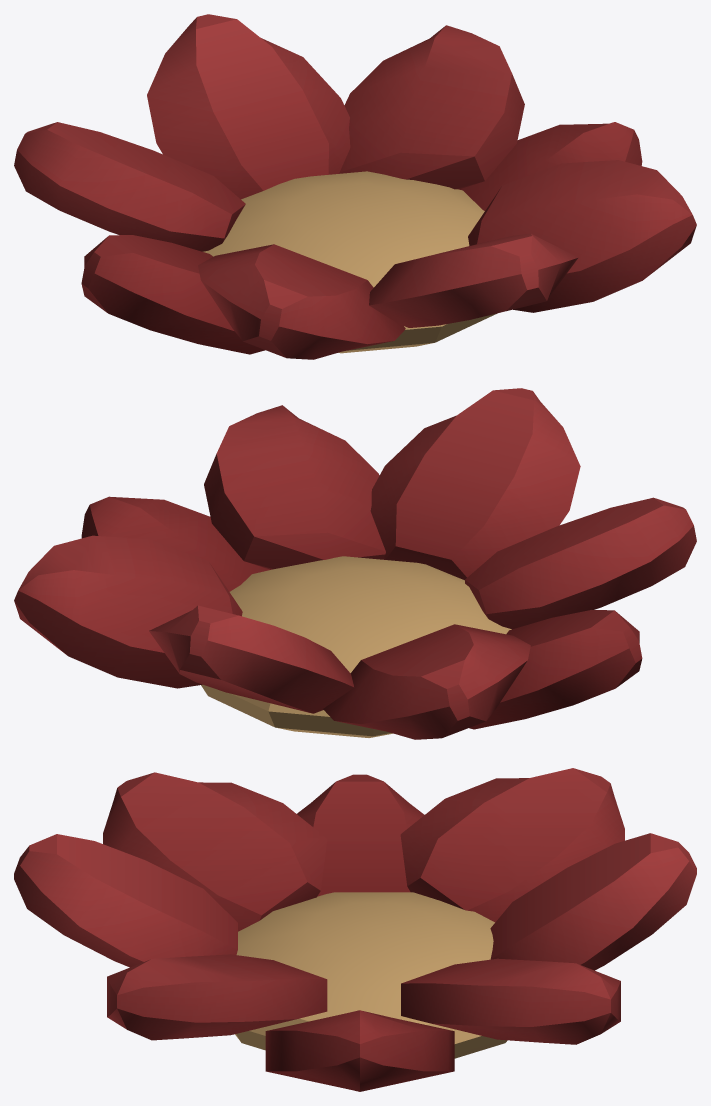
The model's file is FlorRoja_3_elementosDecorativos_T.fbx.
The picture shows the model from 3 angles, top to bottom: view 1: azimuth 30°, elevation 25°; view 2: azimuth 150°, elevation 25°; view 3: azimuth 270°, elevation 25°; orthographic projection.
Visible parts, largest first — view 1: Flor 2.001; view 2: Flor 2.001; view 3: Flor 2.001.
Boxes of the visible parts, x1,y1,x2,y2 form: Flor 2.001: (14, 14, 696, 359); Flor 2.001: (14, 388, 696, 739); Flor 2.001: (14, 768, 696, 1091).
Bounding box in the file's own units: 680 × 225 × 721.
